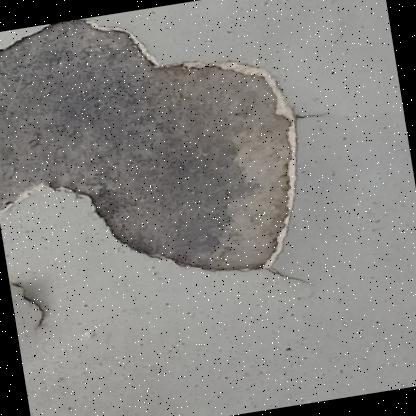Crack: (0, 0, 376, 357)
